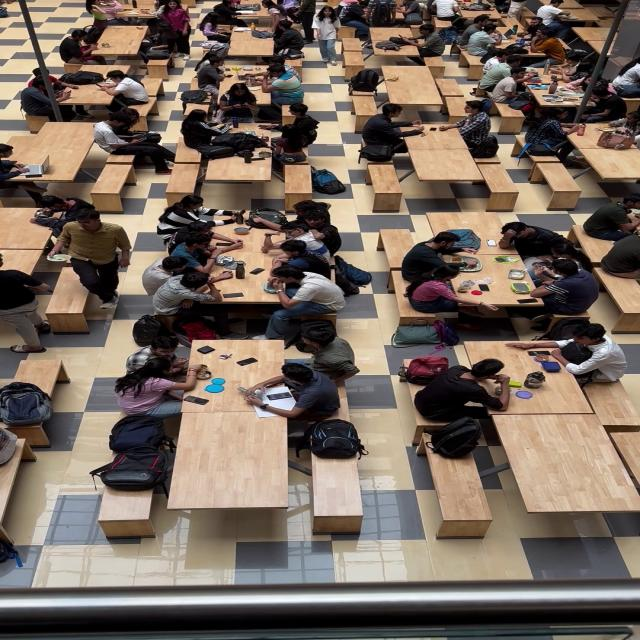Occupied: (147, 200, 360, 318), (114, 339, 350, 414), (404, 247, 549, 326), (3, 117, 146, 196), (188, 226, 310, 310), (462, 345, 596, 415), (480, 50, 616, 117), (3, 122, 111, 196), (175, 108, 324, 158), (182, 341, 286, 412), (368, 102, 494, 155), (506, 325, 628, 379), (27, 75, 155, 125), (238, 362, 340, 424), (413, 361, 511, 422), (113, 358, 200, 420), (265, 328, 359, 382), (91, 114, 175, 172), (265, 268, 347, 318), (528, 258, 599, 314), (400, 231, 473, 285), (156, 194, 242, 237), (150, 271, 229, 316), (521, 109, 585, 163), (20, 70, 83, 124), (361, 102, 426, 154), (0, 260, 54, 318), (281, 206, 341, 258), (498, 221, 574, 260), (408, 121, 494, 155), (180, 110, 242, 156), (168, 232, 242, 270), (126, 332, 194, 373), (90, 26, 149, 71), (582, 197, 640, 241), (0, 146, 47, 200), (32, 196, 92, 233), (578, 84, 629, 124), (477, 51, 525, 93), (267, 104, 320, 142), (268, 124, 316, 165), (599, 233, 640, 278), (215, 84, 260, 124), (311, 6, 341, 66), (139, 20, 180, 63), (226, 26, 276, 61), (159, 0, 191, 52), (396, 24, 446, 57), (59, 29, 104, 65), (218, 65, 280, 91), (464, 23, 508, 58), (600, 110, 640, 148), (84, 0, 122, 40), (199, 13, 234, 56), (526, 31, 569, 66), (280, 252, 332, 280), (269, 20, 306, 58), (194, 57, 228, 98), (554, 62, 596, 94), (336, 1, 372, 38), (547, 6, 606, 28), (513, 16, 553, 47), (256, 63, 300, 91), (609, 58, 640, 97), (288, 0, 316, 33), (213, 0, 246, 24), (391, 0, 420, 26), (261, 0, 288, 27), (428, 0, 461, 22), (504, 0, 534, 23)
Unoccupied: (160, 393, 299, 529), (490, 413, 640, 512), (360, 148, 521, 210), (542, 126, 640, 190), (419, 459, 494, 539), (309, 450, 363, 534), (96, 483, 156, 539), (0, 438, 28, 549), (583, 377, 640, 429), (408, 150, 485, 186), (425, 212, 511, 243), (200, 156, 274, 191), (382, 66, 444, 106), (88, 160, 137, 209), (40, 271, 92, 316), (533, 162, 585, 206), (606, 430, 640, 495), (476, 162, 520, 210), (10, 359, 67, 396), (103, 96, 160, 132), (430, 2, 499, 31), (0, 210, 54, 247), (61, 64, 144, 88), (572, 223, 618, 265), (600, 272, 640, 316), (367, 163, 404, 210), (164, 159, 202, 195), (284, 165, 313, 205), (571, 28, 612, 56), (435, 80, 467, 114), (492, 103, 526, 134), (352, 94, 382, 128), (61, 64, 144, 76), (380, 228, 416, 254), (458, 46, 488, 71), (341, 36, 372, 59), (114, 9, 156, 25), (182, 100, 214, 120), (342, 52, 366, 78), (145, 56, 170, 80), (24, 113, 50, 133)
